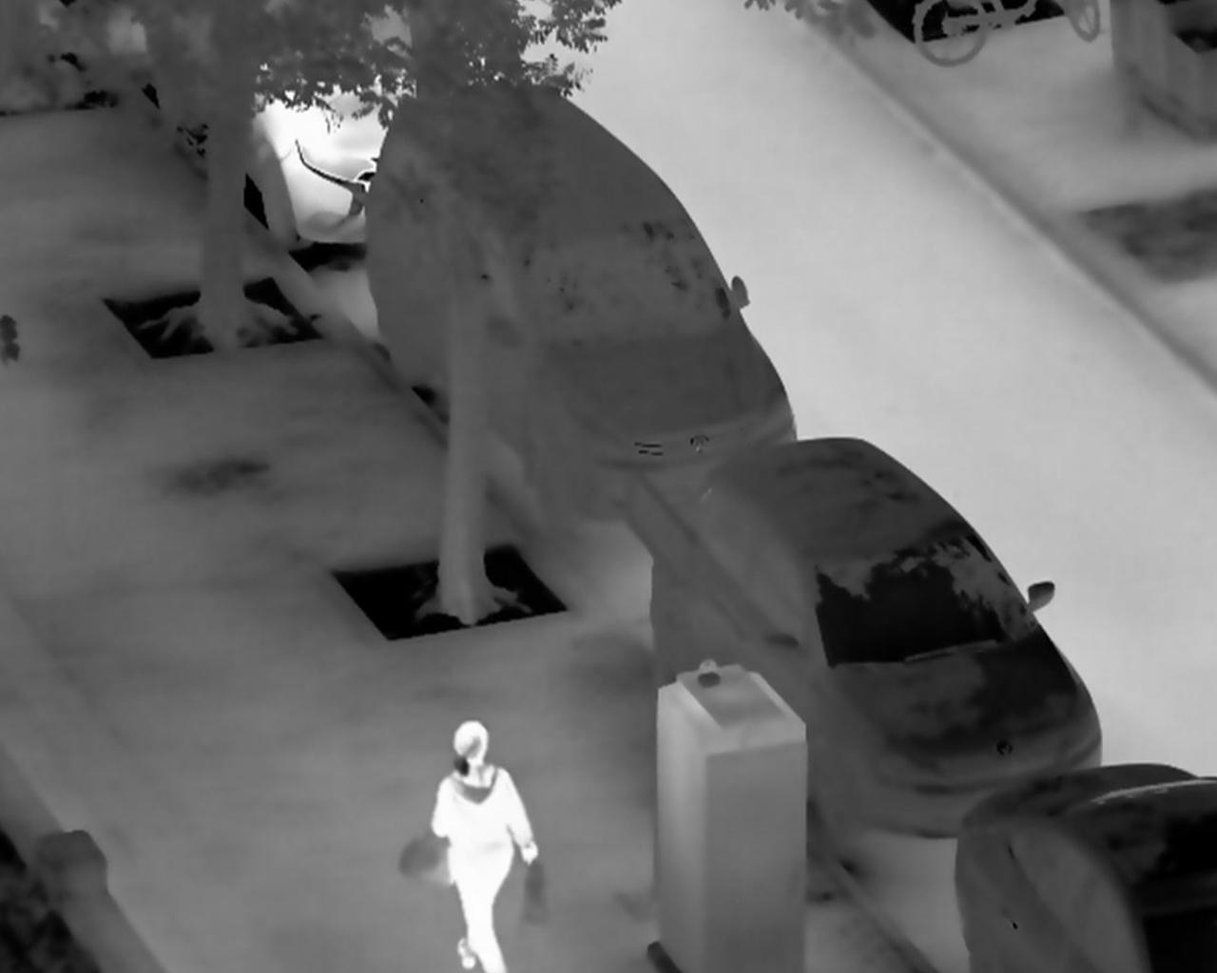person: (429, 717, 541, 973)
